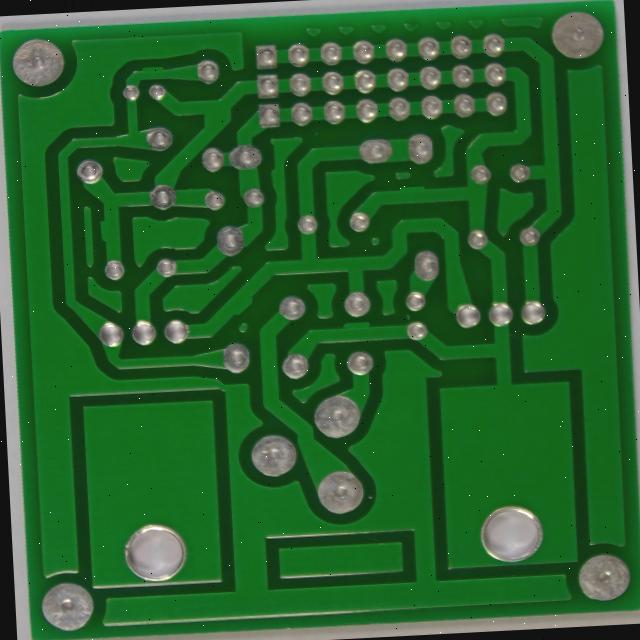spur: (262, 243, 297, 278), (453, 120, 499, 145), (389, 274, 434, 298), (105, 160, 131, 194)
